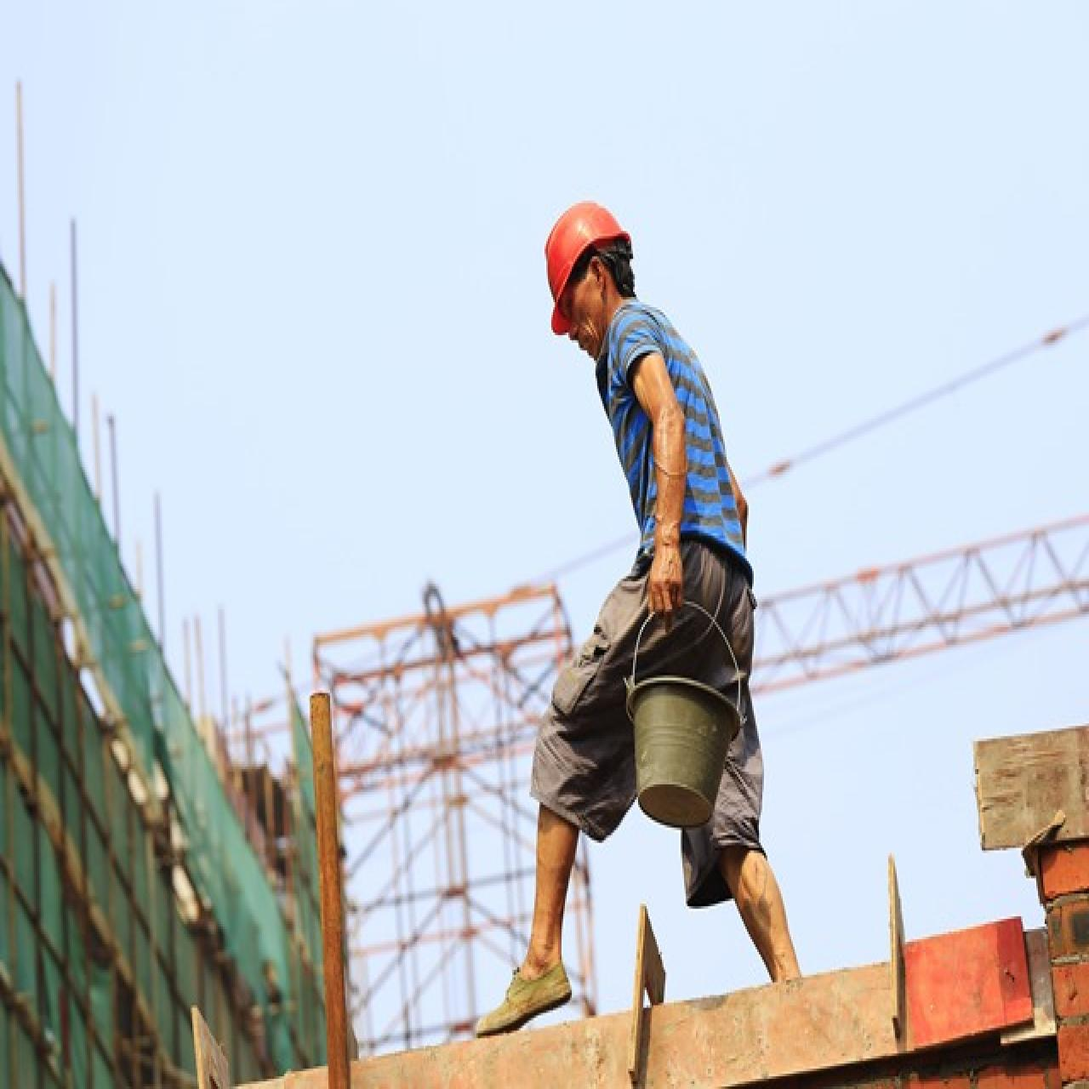NO_Safety_Vest: (601, 314, 742, 585)
Person: (414, 165, 843, 1047)
